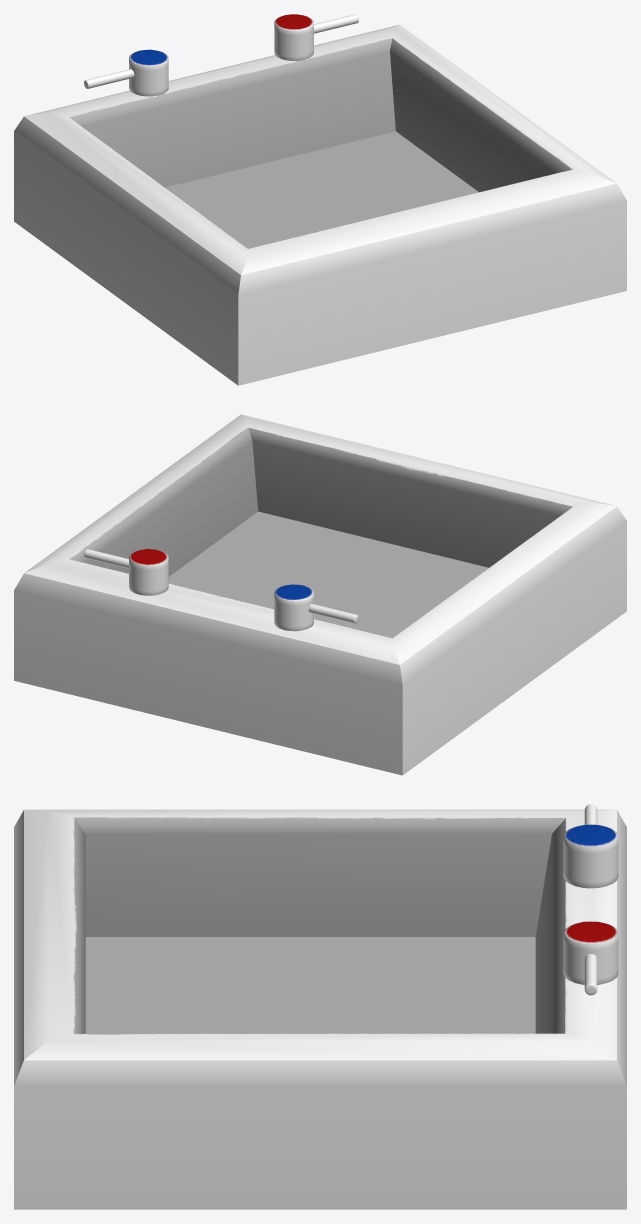
Rendered from Sink_Basin.fbx.
The picture shows the model from 3 angles, top to bottom: view 1: azimuth 30°, elevation 25°; view 2: azimuth 150°, elevation 25°; view 3: azimuth 270°, elevation 25°; orthographic projection. The views are drawn at different scales.
Visible parts, largest first — view 1: polySurface12; view 2: polySurface12; view 3: polySurface12.
Part boxes in pixels (bbox=[...]): polySurface12: bbox=[14, 14, 626, 385]; polySurface12: bbox=[14, 414, 626, 775]; polySurface12: bbox=[14, 804, 626, 1209].
Bounding box in the file's own units: 8 × 2.84 × 8.
